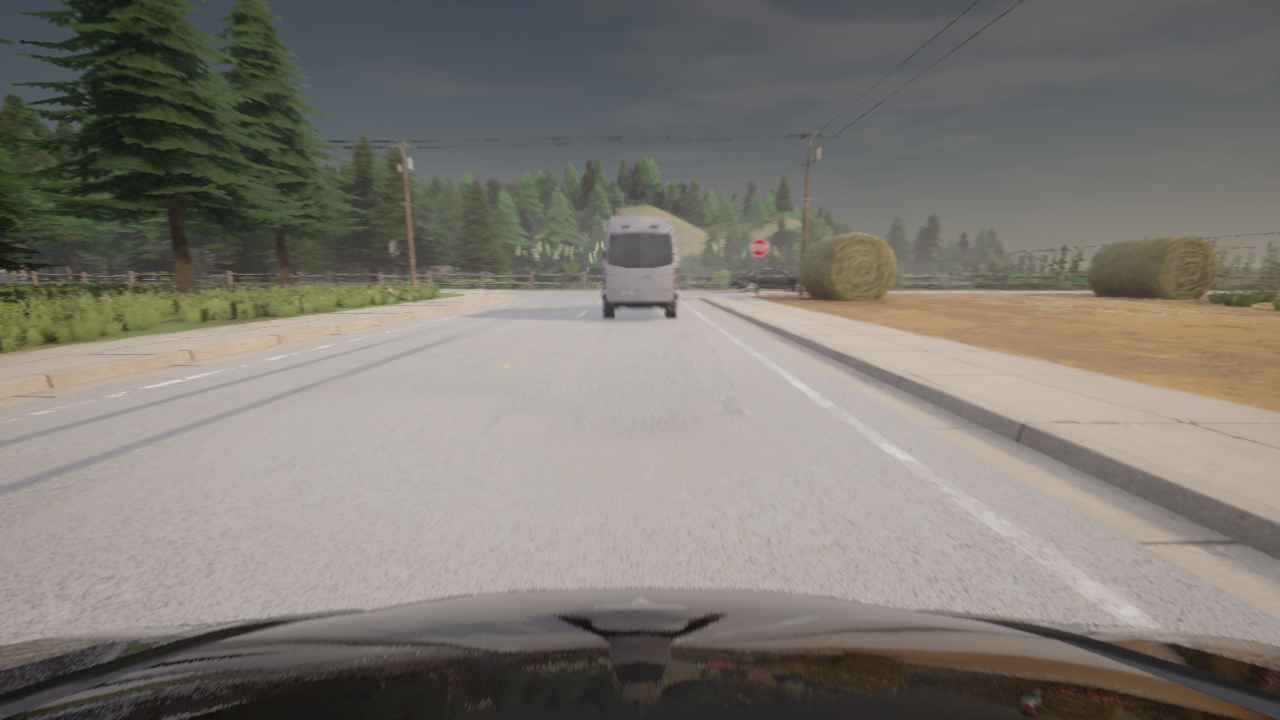cyclist: (0, 588, 1279, 719), (602, 216, 678, 317), (728, 267, 805, 292)
